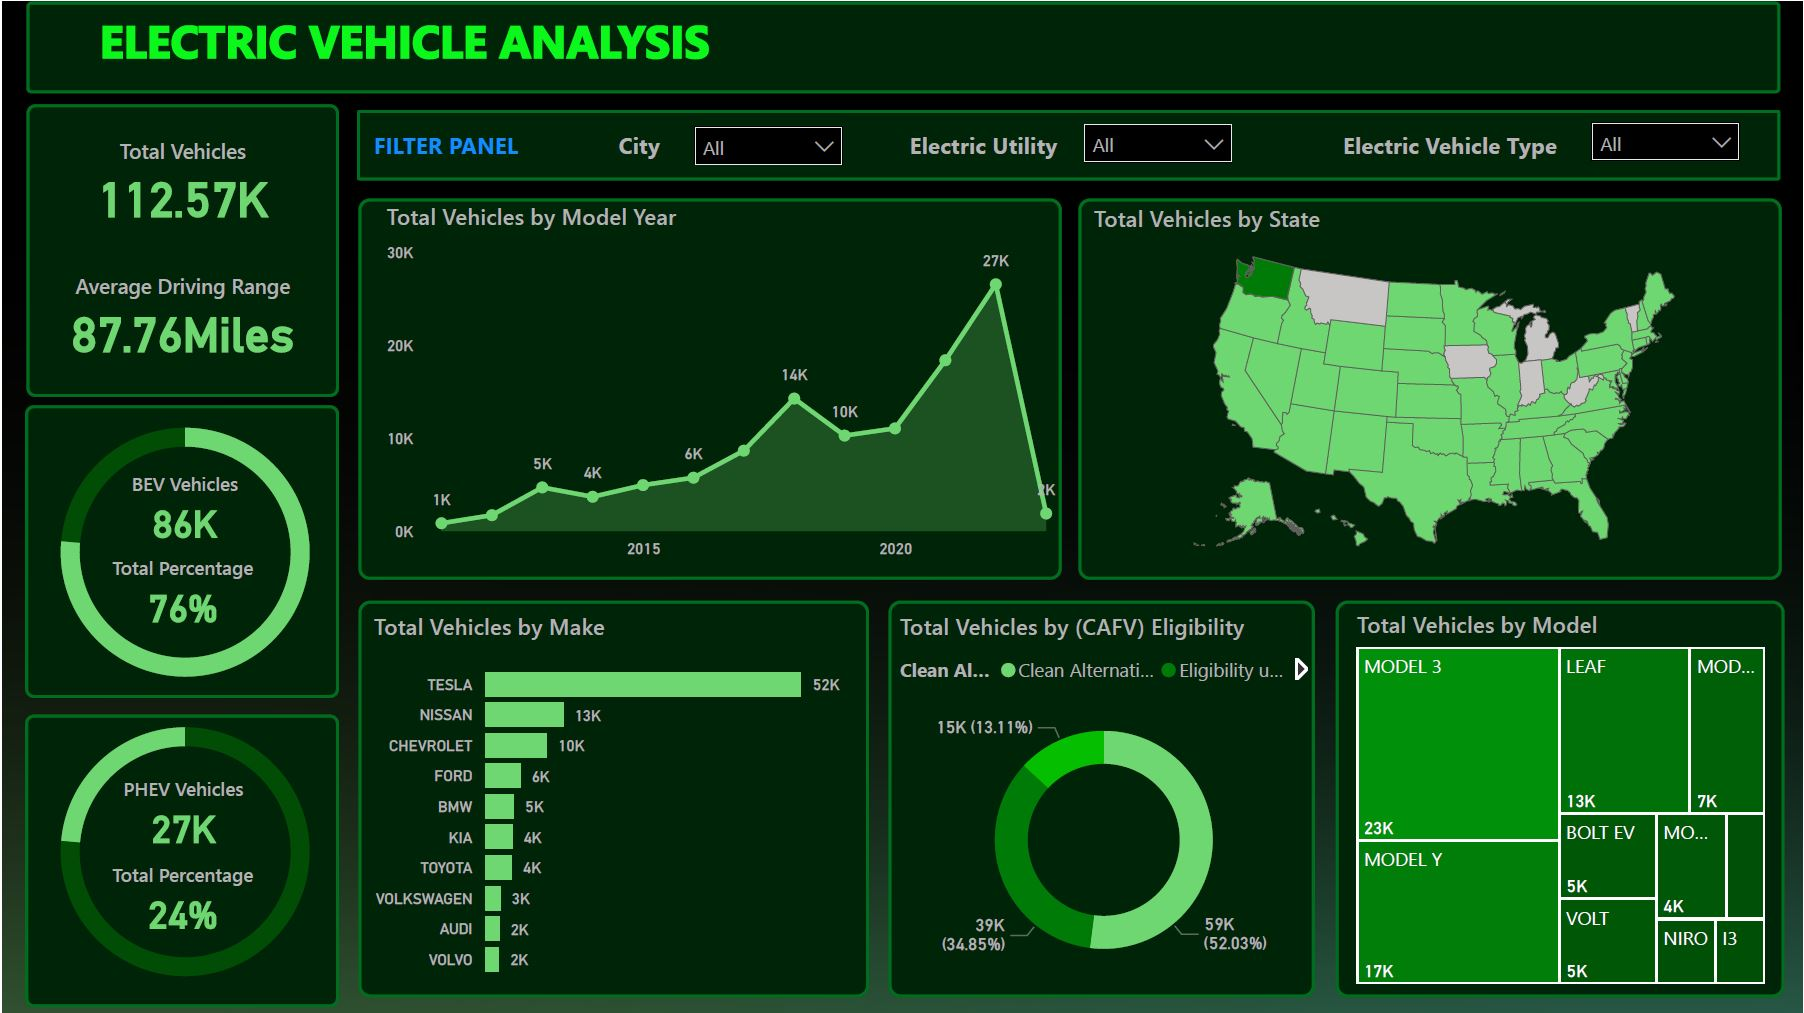

Layout of this report page (visuals, bound fields, positions):
{"tool":"powerbi","page":{"name":"Page 1","canvas":[1280,720],"ordinal":0},"visuals":[{"type":"shape","box":[16.7,0,1247.2,65.5],"z":0},{"type":"textbox","box":[64.3,0,462.9,77.4],"z":1000},{"type":"shape","box":[16.7,72.6,222.5,208.3],"z":2000},{"type":"card","title":"Total Vehicles","fields":{"Values":["Electric_Vehicle_Population_Data.Total Vehicles"]},"box":[16,96,224,64],"z":3000},{"type":"card","title":"Average Driving Range","fields":{"Values":["Electric_Vehicle_Population_Data.Avg Range"]},"box":[16,192,224,64],"z":4000},{"type":"shape","box":[16.4,286.9,223,208.2],"z":5000},{"type":"shape","box":[16.4,506.6,223,208.2],"z":6000},{"type":"donutChart","fields":{"Category":["Electric_Vehicle_Population_Data.Electric Vehicle Type"],"Y":["Electric_Vehicle_Population_Data.Total Vehicles"]},"box":[0,276.1,259.4,230.9],"z":7000},{"type":"card","title":"BEV Vehicles","fields":{"Values":["Electric_Vehicle_Population_Data.BEV Vehicles"]},"box":[79.2,333.8,100.9,54],"z":8000},{"type":"card","title":"Total Percentage","fields":{"Values":["Electric_Vehicle_Population_Data.% BEV Vehicles"]},"box":[70.8,393.8,114.1,54],"z":9000},{"type":"donutChart","fields":{"Category":["Electric_Vehicle_Population_Data.Electric Vehicle Type"],"Y":["Electric_Vehicle_Population_Data.Total Vehicles"]},"box":[0,489.1,259.4,230.9],"z":10000},{"type":"card","title":"PHEV Vehicles","fields":{"Values":["Electric_Vehicle_Population_Data.PHEV Vehicles"]},"box":[78,551.1,100.9,54],"z":11000},{"type":"card","title":"Total Percentage","fields":{"Values":["Electric_Vehicle_Population_Data.% PHEV Vehicles"]},"box":[70.8,612.4,114.1,54],"z":12000},{"type":"shape","box":[252.3,77.4,1011.6,50],"z":13000},{"type":"shape","box":[253.5,140.4,499.8,270.1],"z":14000},{"type":"areaChart","fields":{"Category":["Electric_Vehicle_Population_Data.Model Year"],"Y":["Electric_Vehicle_Population_Data.Total Vehicles"]},"box":[267.8,141.7,491.1,261.8],"z":15000},{"type":"shape","box":[765.2,140.4,499.8,270.1],"z":16000},{"type":"shapeMap","fields":{"Category":["Electric_Vehicle_Population_Data.State"],"Value":["Electric_Vehicle_Population_Data.Total Vehicles"]},"box":[771.2,142.8,493.9,260.6],"z":17000},{"type":"shape","box":[253.5,426,363,282],"z":18000},{"type":"barChart","fields":{"Category":["Electric_Vehicle_Population_Data.Make"],"Y":["Electric_Vehicle_Population_Data.Total Vehicles"]},"box":[259.4,433.2,347.5,270.1],"z":19000},{"type":"shape","box":[629.6,426,303.5,282],"z":20000},{"type":"shape","box":[948.5,426,318.9,282],"z":21000},{"type":"donutChart","title":"Total Vehicles by (CAFV) Eligibility","fields":{"Category":["Electric_Vehicle_Population_Data.Clean Alternative Fuel Vehicle (CAFV) Eligibility"],"Y":["Electric_Vehicle_Population_Data.Total Vehicles"]},"box":[633.1,433.2,299.9,274.9],"z":22000},{"type":"treemap","fields":{"Group":["Electric_Vehicle_Population_Data.Model"],"Values":["Electric_Vehicle_Population_Data.Total Vehicles"]},"box":[958,432,299.9,271.3],"z":23000},{"type":"textbox","box":[259.4,85.7,121.4,41.7],"z":24000},{"type":"slicer","fields":{"Values":["Electric_Vehicle_Population_Data.City"]},"box":[482,78.5,125,58.3],"z":25000},{"type":"textbox","box":[433.2,85.7,70.2,32.1],"z":26000},{"type":"slicer","fields":{"Values":["Electric_Vehicle_Population_Data.Electric Utility"]},"box":[759.3,77.4,125,58.3],"z":27000},{"type":"slicer","fields":{"Values":["Electric_Vehicle_Population_Data.Electric Vehicle Type"]},"box":[1119.9,76.2,125,58.3],"z":28000},{"type":"textbox","box":[640.3,85.7,119,41.7],"z":29000},{"type":"textbox","box":[948.5,85.7,179.7,32.1],"z":30000}]}

Visuals, with their boxes in screenshot pixels (x1, y1, x2, y2), scaled from the page's 1280x720 canvas onto the 1804x1013 screenshot:
shape: 24/0/1781/92
textbox: 91/0/743/109
shape: 24/102/337/395
"Total Vehicles" card: 23/135/338/225
"Average Driving Range" card: 23/270/338/360
shape: 23/404/337/697
shape: 23/713/337/1006
donutChart - Electric_Vehicle_Population_Data.Electric Vehicle Type x Electric_Vehicle_Population_Data.Total Vehicles: 0/388/366/713
"BEV Vehicles" card: 112/470/254/546
"Total Percentage" card: 100/554/261/630
donutChart - Electric_Vehicle_Population_Data.Electric Vehicle Type x Electric_Vehicle_Population_Data.Total Vehicles: 0/688/366/1012
"PHEV Vehicles" card: 110/775/252/851
"Total Percentage" card: 100/862/261/938
shape: 356/109/1781/179
shape: 357/198/1062/578
areaChart - Electric_Vehicle_Population_Data.Model Year x Electric_Vehicle_Population_Data.Total Vehicles: 377/199/1070/568
shape: 1078/198/1783/578
shapeMap - Electric_Vehicle_Population_Data.State x Electric_Vehicle_Population_Data.Total Vehicles: 1087/201/1783/568
shape: 357/599/869/996
barChart - Electric_Vehicle_Population_Data.Make x Electric_Vehicle_Population_Data.Total Vehicles: 366/609/855/990
shape: 887/599/1315/996
shape: 1337/599/1786/996
"Total Vehicles by (CAFV) Eligibility" donutChart: 892/609/1315/996
treemap - Electric_Vehicle_Population_Data.Model x Electric_Vehicle_Population_Data.Total Vehicles: 1350/608/1773/990
textbox: 366/121/537/179
slicer - Electric_Vehicle_Population_Data.City: 679/110/855/192
textbox: 611/121/709/166
slicer - Electric_Vehicle_Population_Data.Electric Utility: 1070/109/1246/191
slicer - Electric_Vehicle_Population_Data.Electric Vehicle Type: 1578/107/1755/189
textbox: 902/121/1070/179
textbox: 1337/121/1590/166
